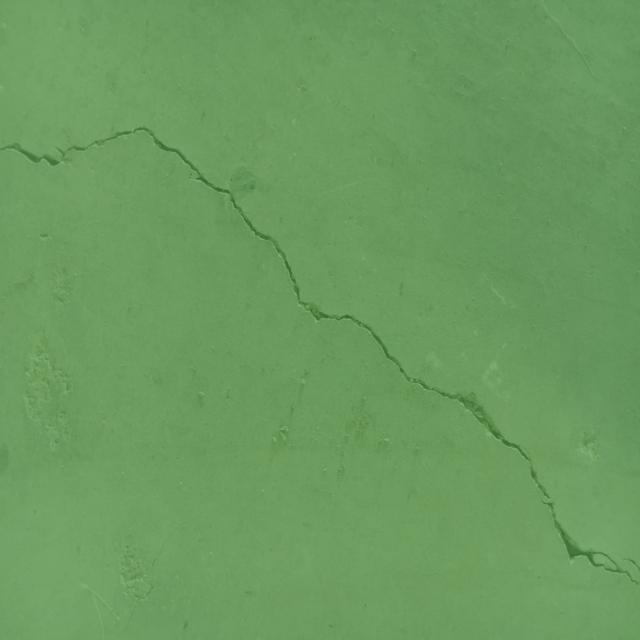crack: (0, 126, 551, 500), (541, 498, 639, 586), (618, 555, 640, 572)
